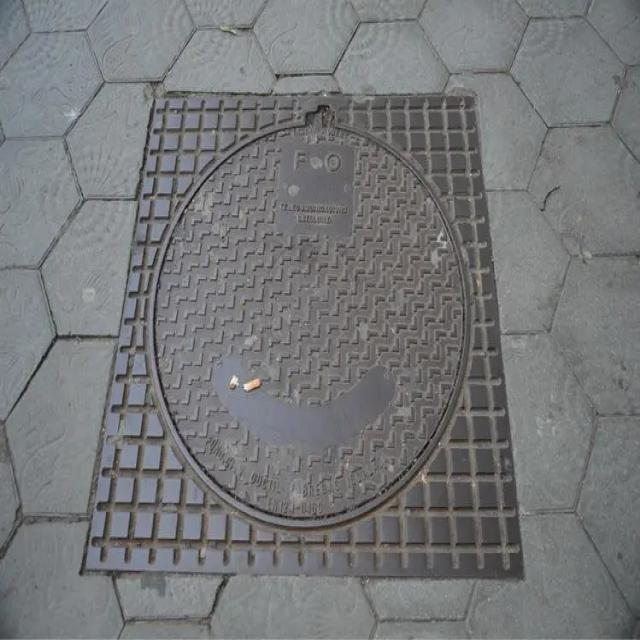manhole: (86, 92, 522, 577)
